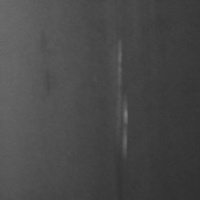inclusion: (41, 60, 56, 93)
scratches: (109, 39, 132, 161)
